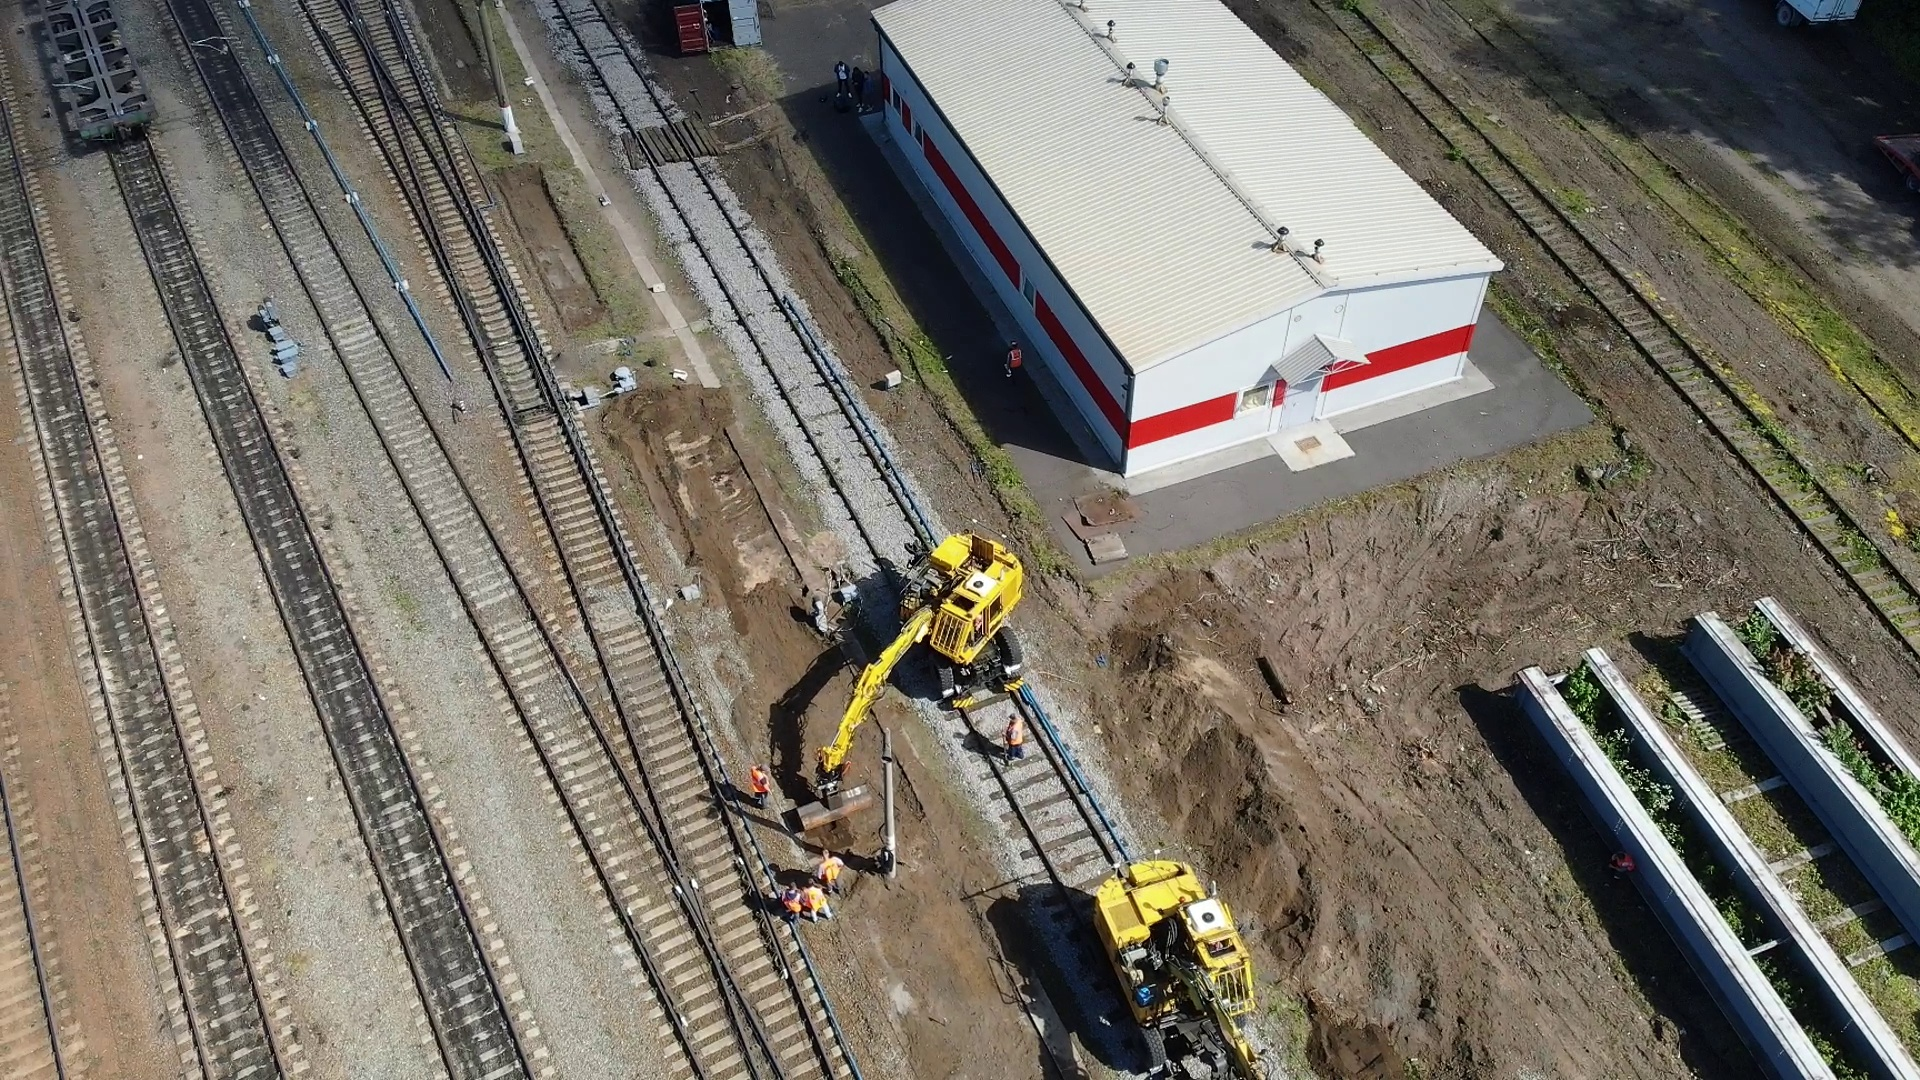kjtv: (1098, 845, 1259, 1034), (894, 527, 1019, 691)
